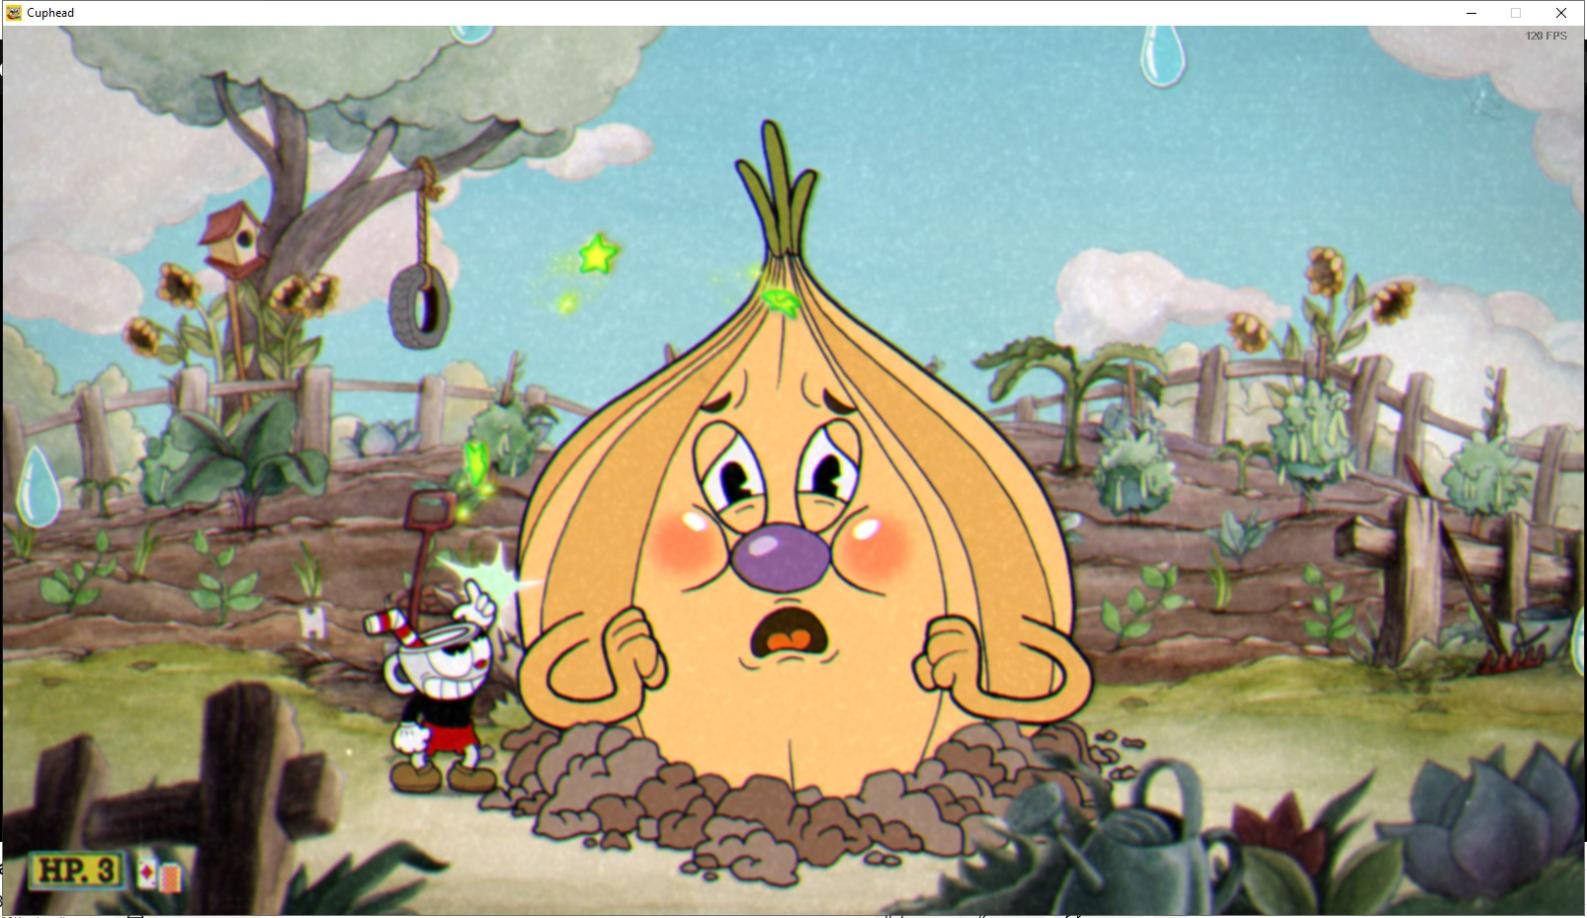hp3: (91, 851, 123, 889)
onion_boss: (510, 114, 1104, 804)
player: (356, 572, 512, 803)
rain: (11, 438, 71, 539), (1132, 25, 1197, 96), (448, 24, 501, 49)
